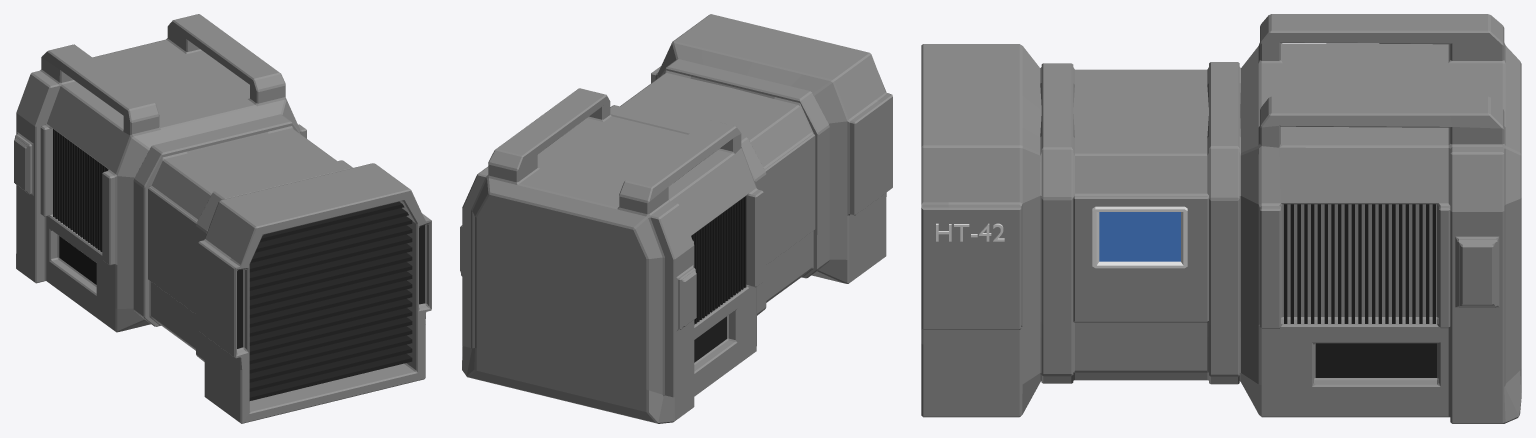
Rendered from Generator.fbx.
The picture shows the model from 3 angles, left to right: view 1: azimuth 30°, elevation 25°; view 2: azimuth 150°, elevation 25°; view 3: azimuth 270°, elevation 25°; orthographic projection. The views are drawn at different scales.
Parts seen in each view (by area): view 1: Cube, Cube.001, Cube.002; view 2: Cube, Cube.002; view 3: Cube, Cube.002, Cube.003.
Boxes of the visible parts, bbox=[...] form: Cube: bbox=[14, 14, 431, 423]; Cube.001: bbox=[249, 201, 412, 400]; Cube.002: bbox=[53, 129, 108, 252]; Cube: bbox=[460, 14, 892, 423]; Cube.002: bbox=[691, 196, 746, 324]; Cube: bbox=[921, 14, 1521, 423]; Cube.002: bbox=[1284, 204, 1435, 323]; Cube.003: bbox=[1092, 206, 1187, 268].
Bounding box in the file's own units: 2.16 × 2.06 × 3.82.
